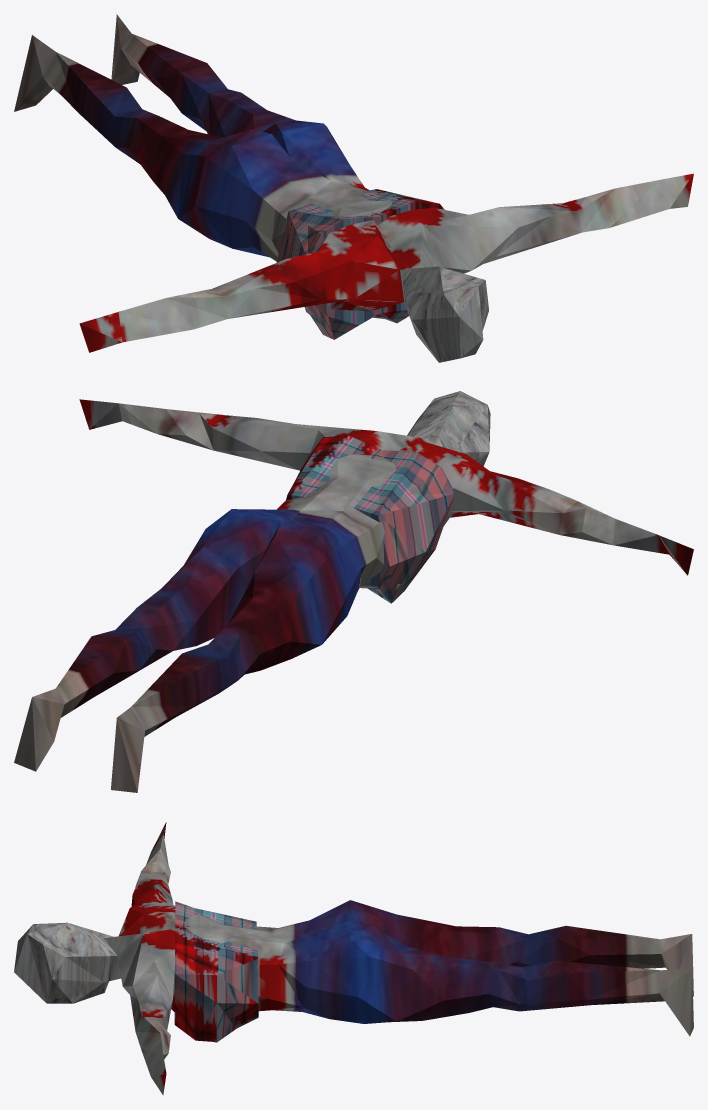
The model's file is zombiechicklow_wtf.obj.
3 renders of one model, top to bottom at view 1: azimuth 30°, elevation 25°; view 2: azimuth 150°, elevation 25°; view 3: azimuth 270°, elevation 25°, orthographic. The views are drawn at different scales.
Visible parts, largest first — view 1: group4, group1, group3, group2; view 2: group4, group3, group1; view 3: group4, group3, group1.
Part boxes in pixels (x1=…): group4: x1=14, y1=14, x2=693, y2=352; group1: x1=400, y1=266, x2=488, y2=358; group3: x1=276, y1=189, x2=444, y2=339; group2: x1=405, y1=267, x2=459, y2=362; group4: x1=14, y1=399, x2=693, y2=792; group3: x1=286, y1=435, x2=454, y2=603; group1: x1=407, y1=391, x2=490, y2=459; group4: x1=104, y1=822, x2=693, y2=1095; group3: x1=174, y1=901, x2=258, y2=1042; group1: x1=14, y1=922, x2=121, y2=1003.
Size of the model in its own units: 580 by 121 by 660.
